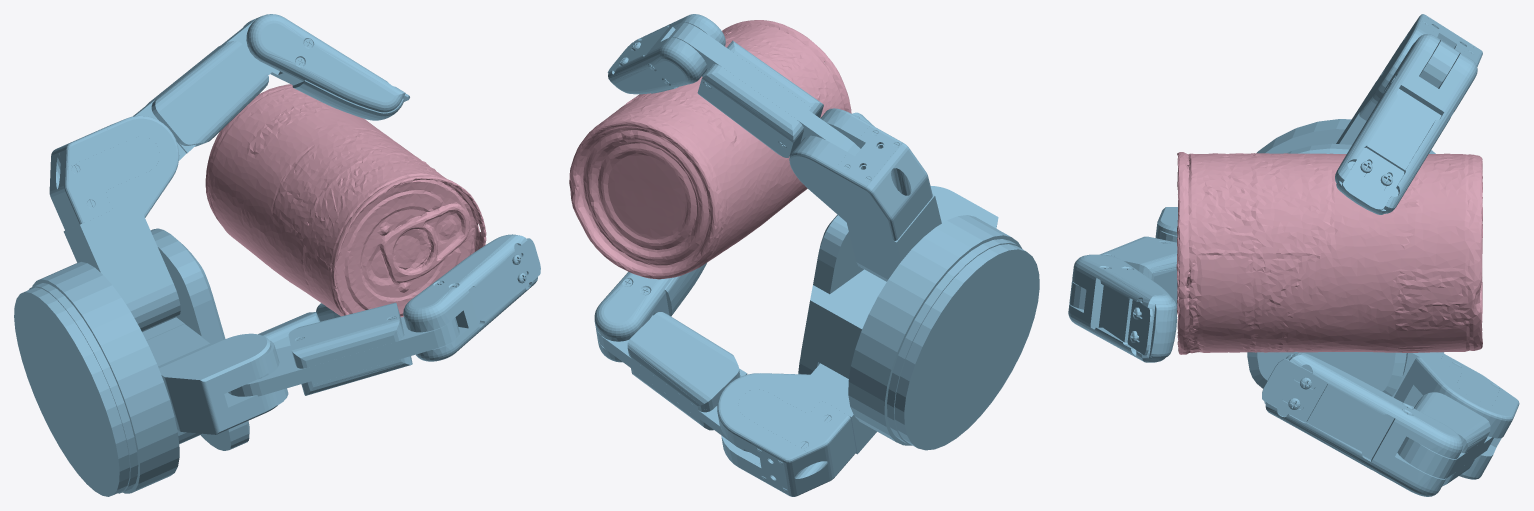
The picture shows the model from 3 angles, left to right: view 1: azimuth 30°, elevation 25°; view 2: azimuth 150°, elevation 25°; view 3: azimuth 270°, elevation 25°; orthographic projection. The views are drawn at different scales.
Visible parts, largest first — view 1: world; view 2: world; view 3: world.
Boxes of the visible parts, bbox=[...] form: world: bbox=[14, 14, 540, 496]; world: bbox=[569, 14, 1039, 496]; world: bbox=[1068, 14, 1519, 496].
Bounding box in the file's own units: 0.1807 × 0.1806 × 0.15.
